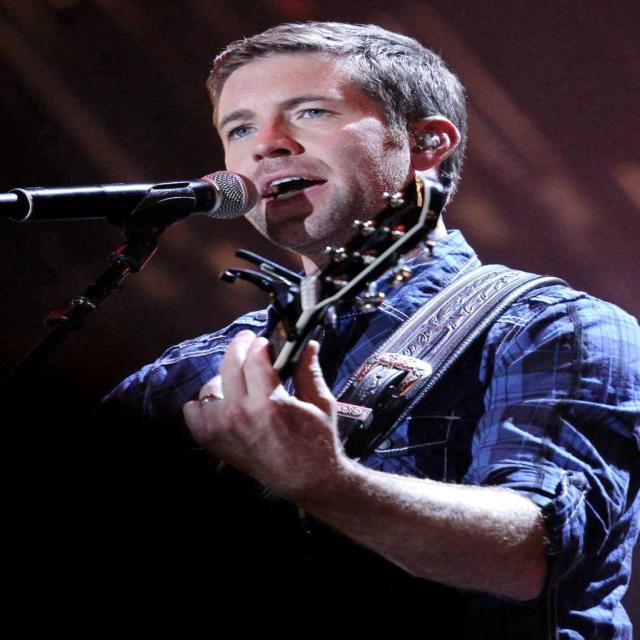Face: (189, 50, 420, 250)
